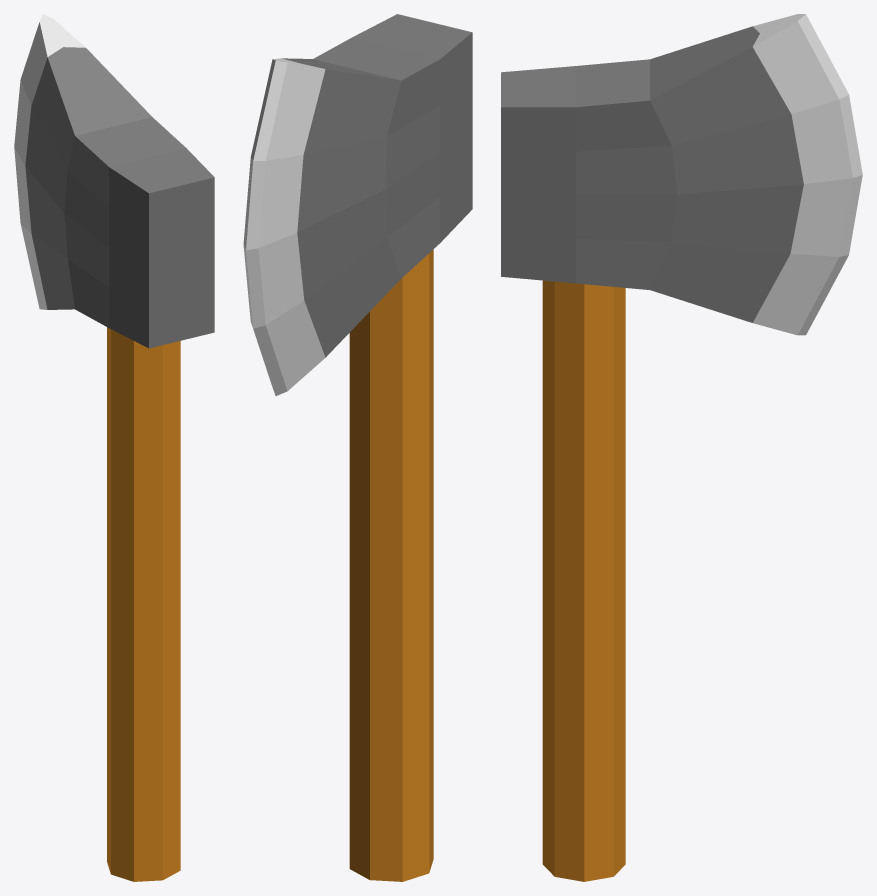
The model's file is axt.fbx.
3 renders of one model, left to right at view 1: azimuth 30°, elevation 25°; view 2: azimuth 150°, elevation 25°; view 3: azimuth 270°, elevation 25°, orthographic. The views are drawn at different scales.
Parts seen in each view (by area): view 1: Cube; view 2: Cube; view 3: Cube.
Part boxes in pixels (x1,y1,x2,y2): Cube: (14, 14, 214, 881); Cube: (243, 14, 472, 881); Cube: (501, 14, 862, 881).
Size of the model in its own units: 74.43 by 715 by 275.
